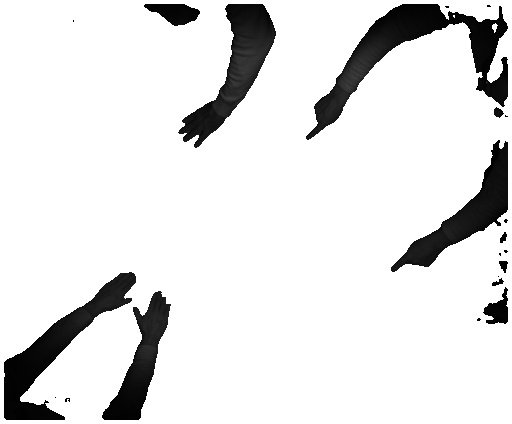hand: (384, 235, 446, 271), (176, 105, 224, 151), (304, 92, 346, 143), (134, 291, 175, 343), (90, 272, 140, 311)
